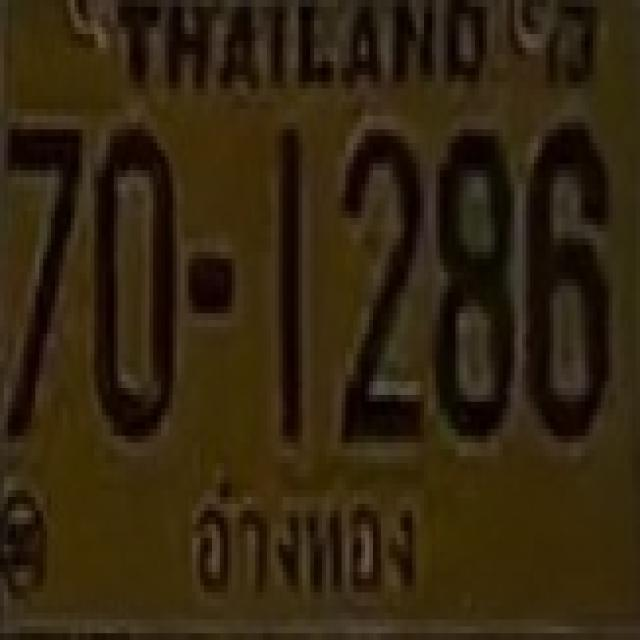0: (92, 122, 175, 436)
1: (275, 126, 298, 439)
2: (340, 126, 418, 439)
6: (524, 119, 607, 432)
7: (4, 122, 78, 436)
8: (432, 122, 510, 436)
ATG: (173, 472, 430, 606)
